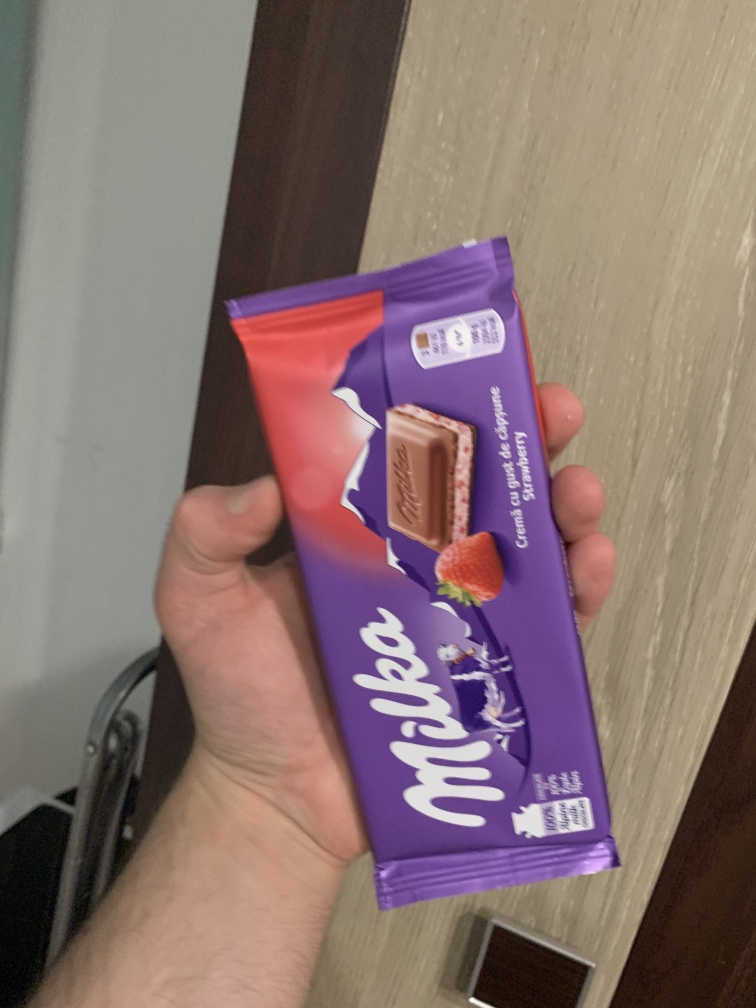milka: (203, 230, 639, 920)
